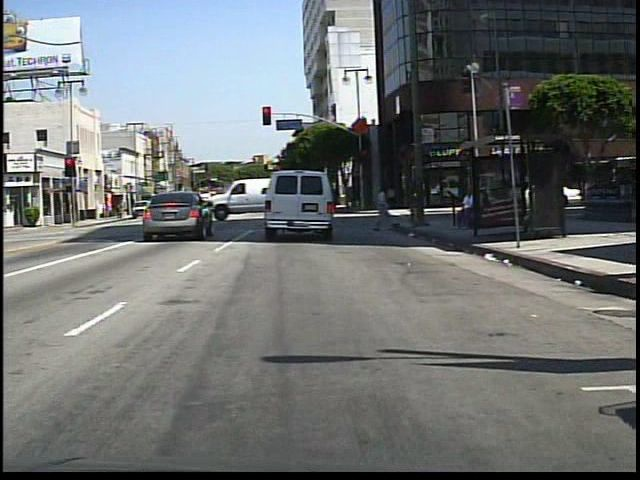person: (372, 181, 398, 235), (455, 187, 478, 234), (148, 192, 163, 218)
